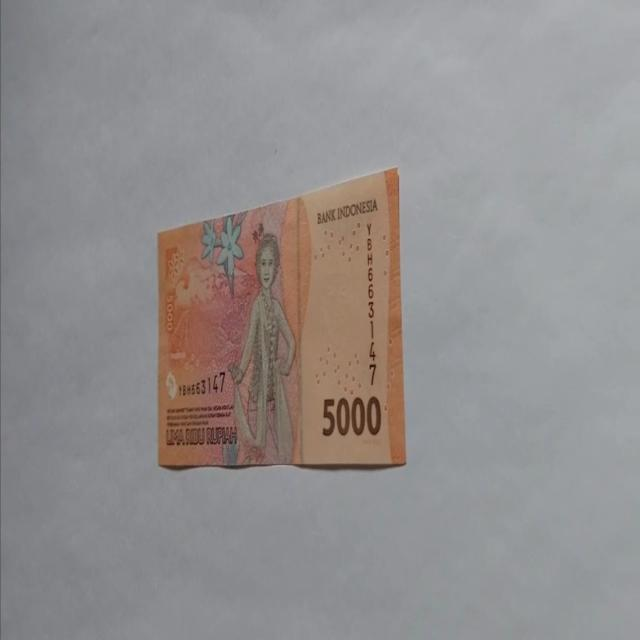lima ribu rupiah: (156, 165, 407, 471), (226, 230, 298, 465)
